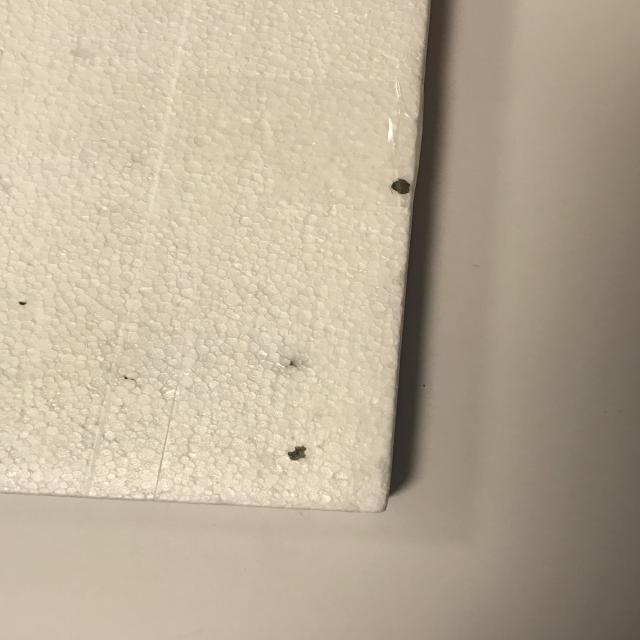Trash: (1, 0, 433, 514)
